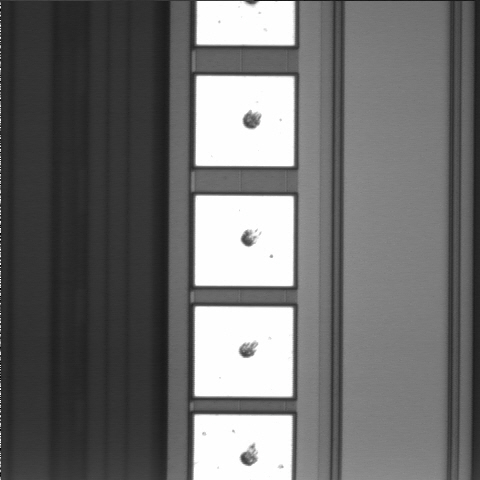pad: (195, 306, 293, 397), (195, 196, 294, 286), (196, 76, 294, 166)
